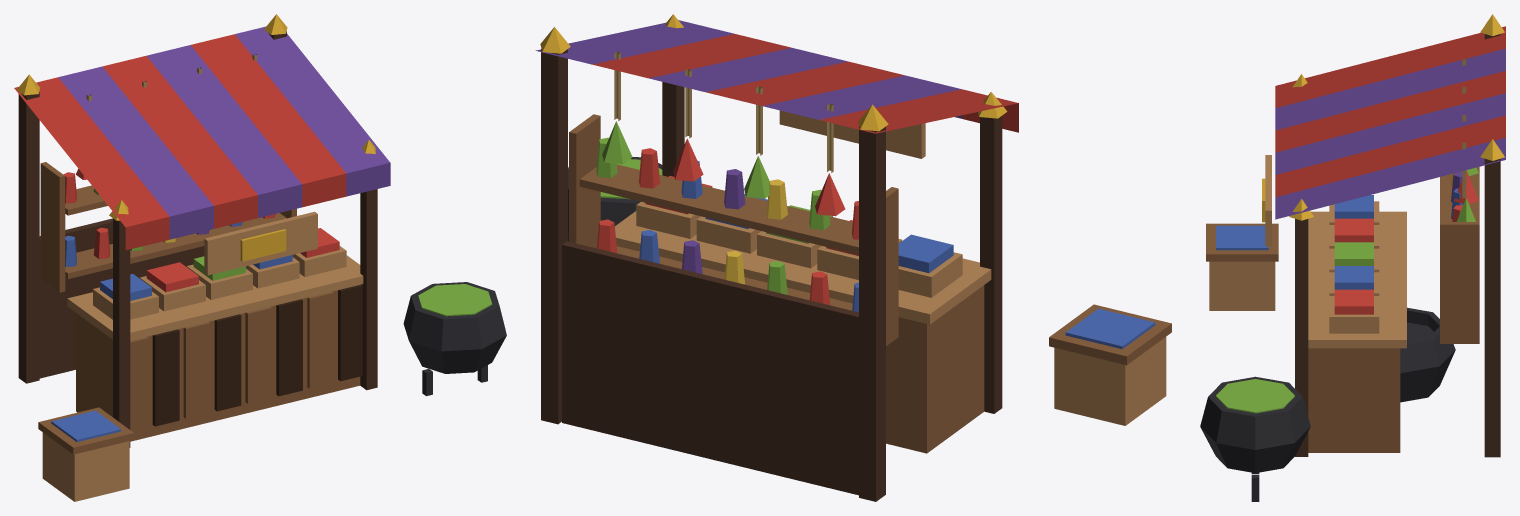
The model's file is stall_potion.fbx.
3 views of the same model, side by side, from view 1: azimuth 30°, elevation 25°; view 2: azimuth 150°, elevation 25°; view 3: azimuth 270°, elevation 25° (orthographic). The views are drawn at different scales.
Parts seen in each view (by area): view 1: stall_potion; view 2: stall_potion; view 3: stall_potion.
Boxes of the visible parts, x1,y1,x2,y2 form: stall_potion: [14, 14, 506, 501]; stall_potion: [535, 14, 1171, 501]; stall_potion: [1200, 14, 1505, 501].
Size of the model in its own units: 4.1 by 2.64 by 2.32.
